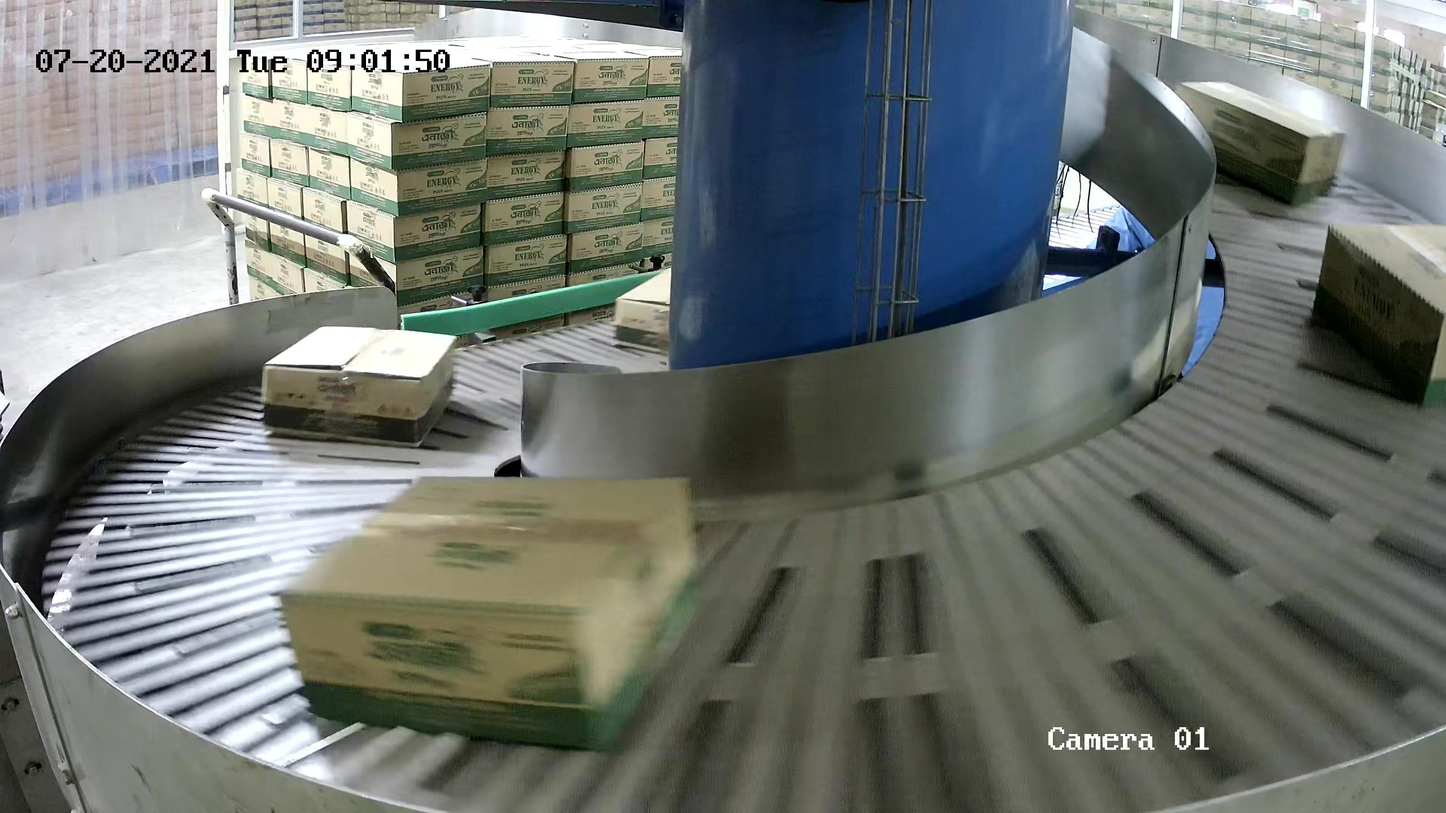Box: (275, 472, 705, 755), (1311, 221, 1446, 410), (260, 325, 457, 449), (1173, 80, 1347, 208), (611, 267, 672, 355)
